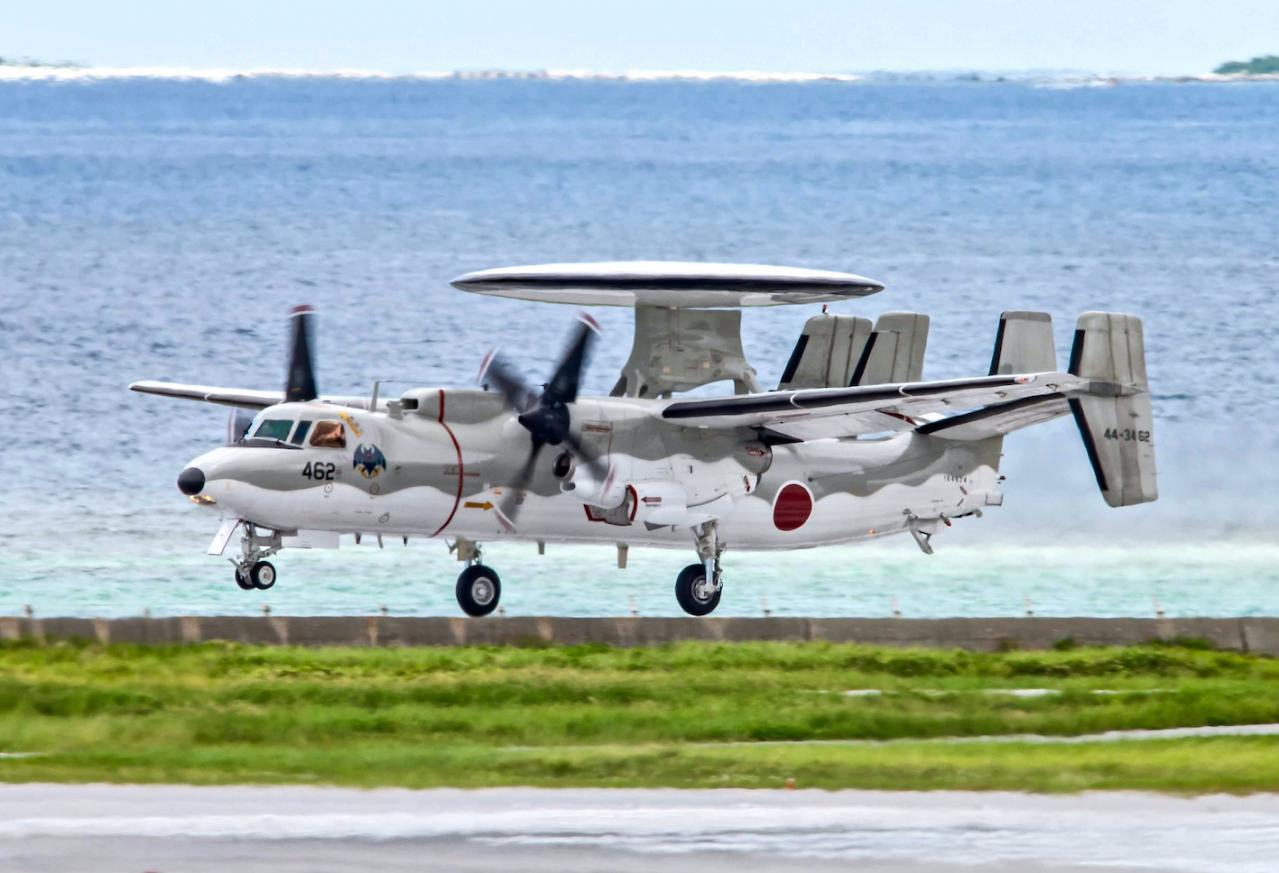E2: (127, 260, 1157, 618)
